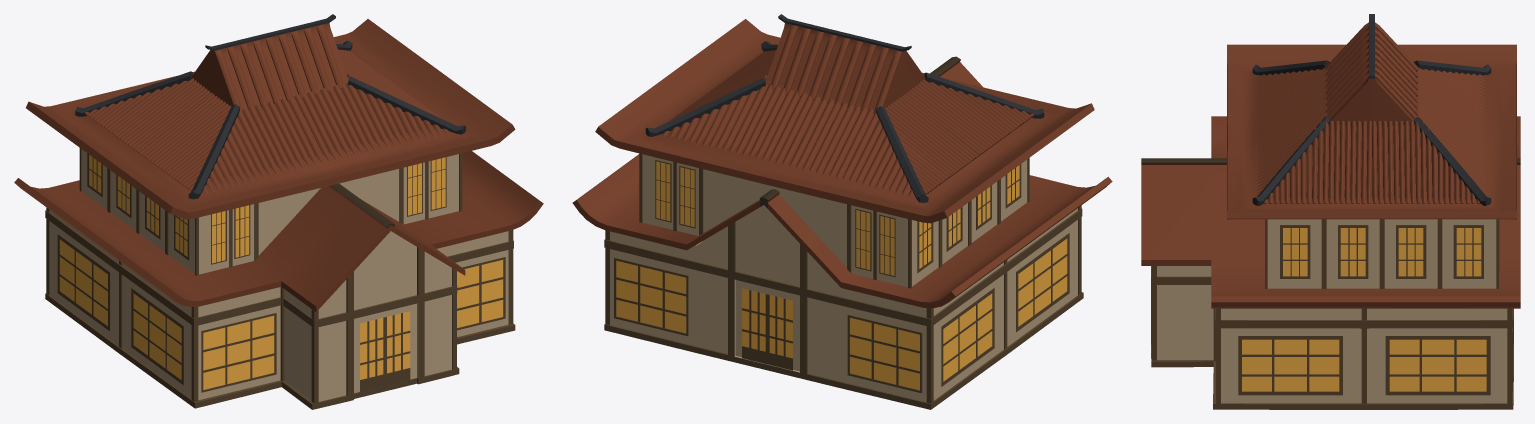
Rendered from Apartment_4.fbx.
The picture shows the model from 3 angles, left to right: view 1: azimuth 30°, elevation 25°; view 2: azimuth 150°, elevation 25°; view 3: azimuth 270°, elevation 25°; orthographic projection.
Visible parts, largest first — view 1: Apartment_4; view 2: Apartment_4; view 3: Apartment_4.
Part boxes in pixels (x1=…): Apartment_4: x1=14, y1=14, x2=543, y2=409; Apartment_4: x1=572, y1=14, x2=1112, y2=409; Apartment_4: x1=1141, y1=14, x2=1520, y2=409.
Size of the model in its own units: 528 by 379 by 459.
